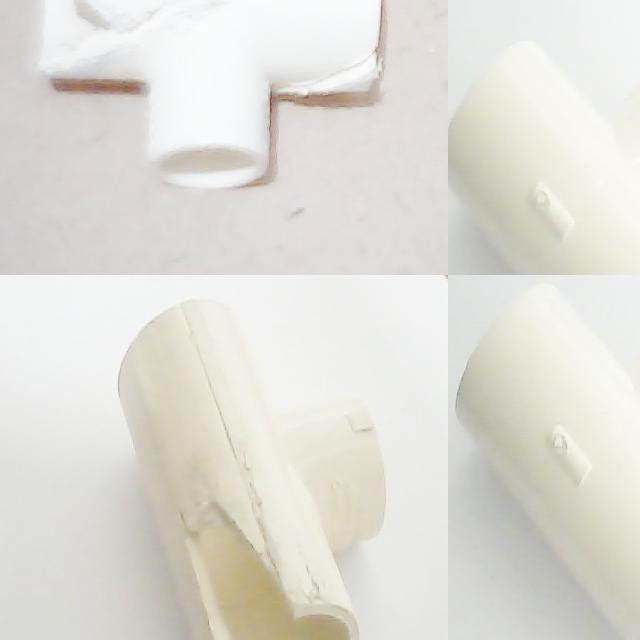Defective: (188, 502, 298, 640), (31, 0, 167, 79), (280, 48, 376, 112)
T Joint: (116, 299, 388, 640), (34, 0, 387, 193), (454, 284, 640, 640), (448, 40, 640, 275)
